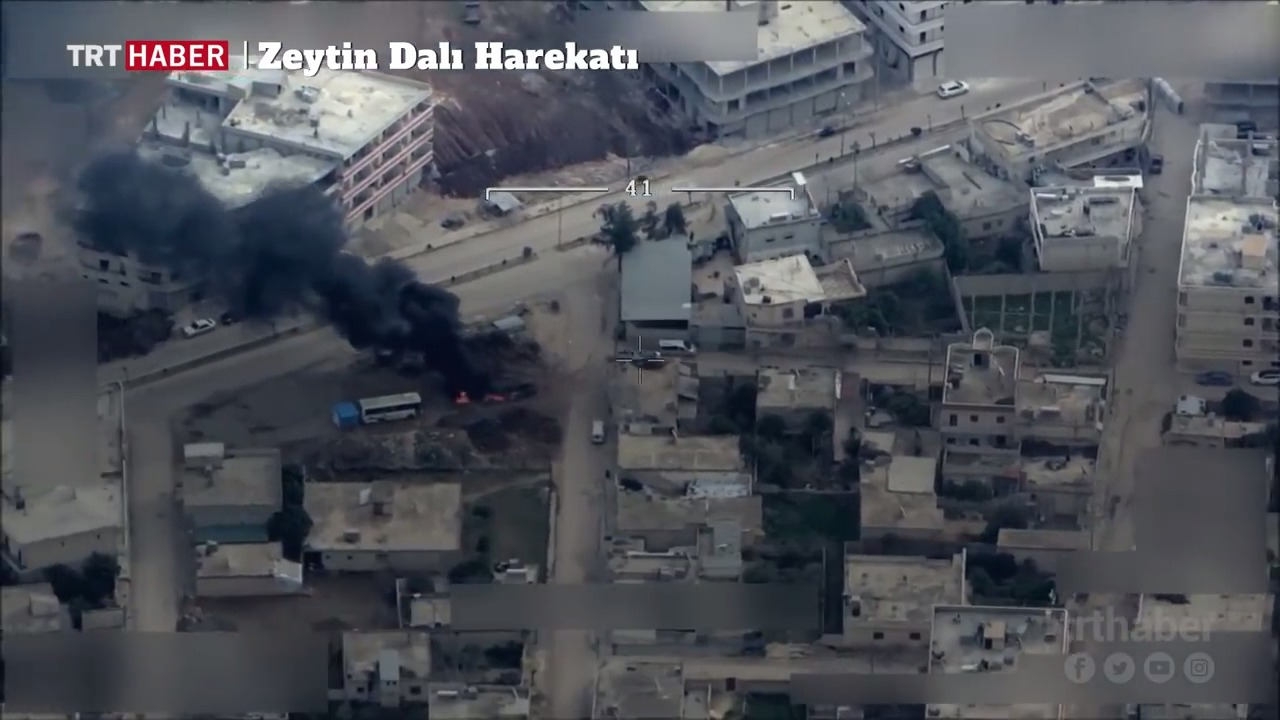arac: (360, 389, 426, 437), (651, 327, 700, 357), (1191, 364, 1243, 388), (184, 313, 216, 340), (584, 410, 608, 446), (1251, 361, 1280, 388), (939, 77, 979, 96), (1148, 147, 1174, 173)
bina: (612, 225, 715, 347), (187, 527, 319, 602)
